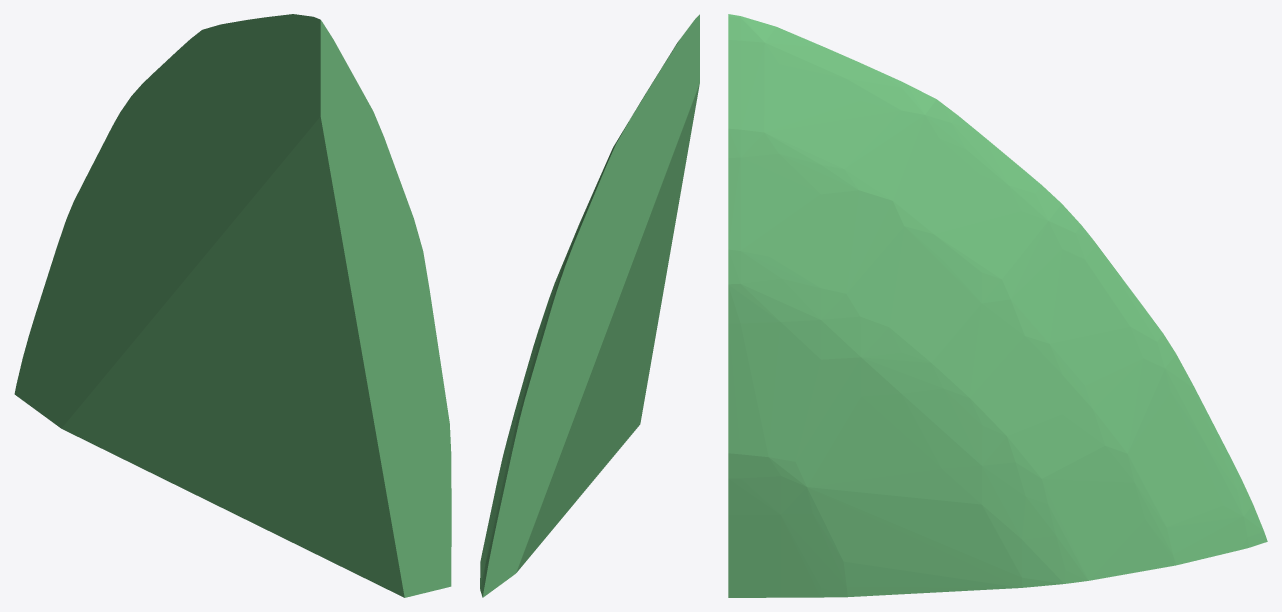
File: left-shoulder-pitch-0_part_116.obj
The picture shows the model from 3 angles, left to right: view 1: azimuth 30°, elevation 25°; view 2: azimuth 150°, elevation 25°; view 3: azimuth 270°, elevation 25°; orthographic projection. The views are drawn at different scales.
Size of the model in its own units: 0.00671 by 0.0293 by 0.0272.
